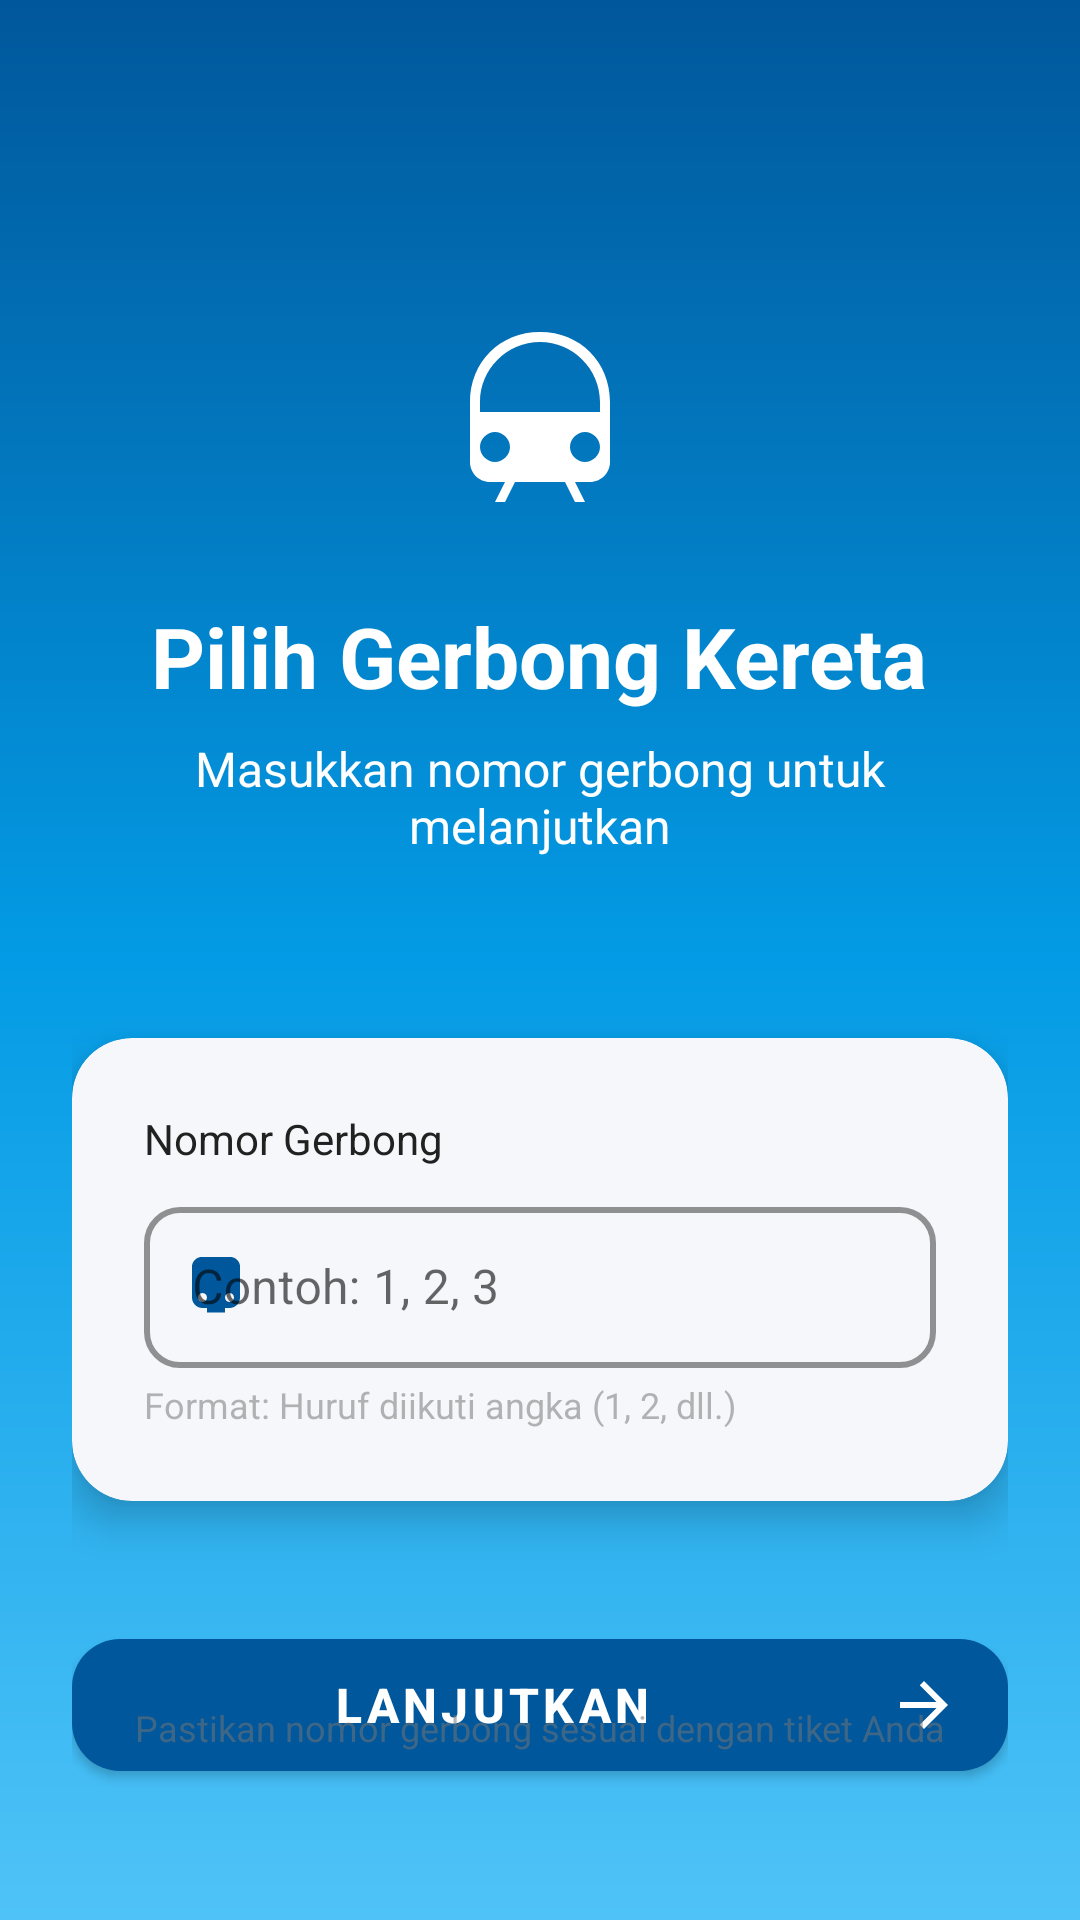

Where to tap for icons on this 1080w x 1920h app screen, as (x=x, y=y):
train: (x=540, y=407)
